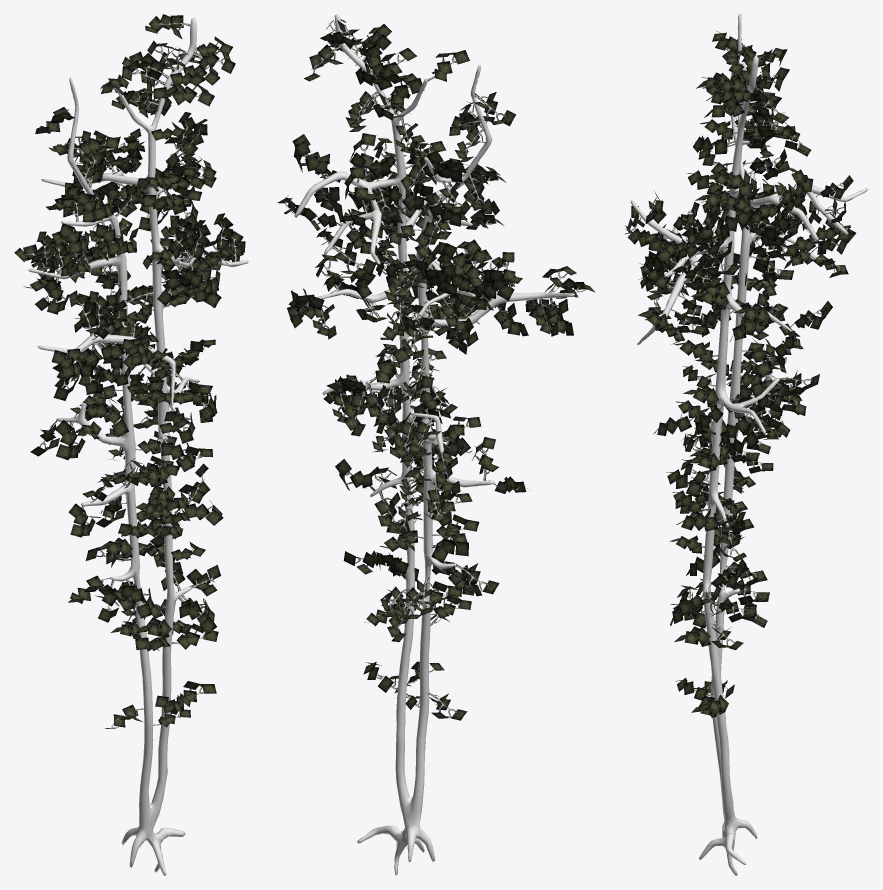
File: BirchTree2.fbx
3 renders of one model, left to right at view 1: azimuth 30°, elevation 25°; view 2: azimuth 150°, elevation 25°; view 3: azimuth 270°, elevation 25°, orthographic. The views are drawn at different scales.
Visible parts, largest first — view 1: Birch_2_Leaves, Birch_2; view 2: Birch_2_Leaves, Birch_2; view 3: Birch_2_Leaves, Birch_2.
Part boxes in pixels (left/top/right/bottom): Birch_2_Leaves: left=14, top=14, right=245, bottom=728; Birch_2: left=28, top=17, right=248, bottom=875; Birch_2_Leaves: left=277, top=19, right=595, bottom=720; Birch_2: left=294, top=14, right=574, bottom=875; Birch_2_Leaves: left=625, top=31, right=855, bottom=717; Birch_2: left=630, top=14, right=868, bottom=875.
Bounding box in the file's own units: 162 × 560 × 147.
